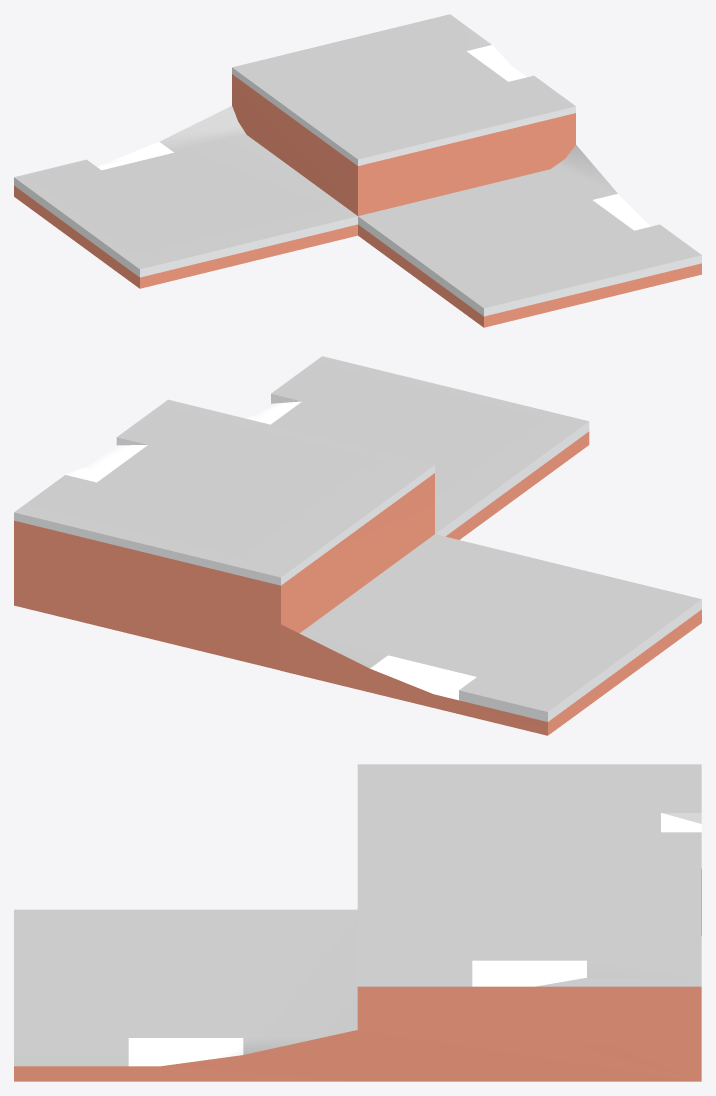
Rendered from platform_007.glb.
The picture shows the model from 3 angles, top to bottom: view 1: azimuth 30°, elevation 25°; view 2: azimuth 150°, elevation 25°; view 3: azimuth 270°, elevation 25°; orthographic projection. The views are drawn at different scales.
Visible parts, largest first — view 1: platform_007; view 2: platform_007; view 3: platform_007.
Boxes of the visible parts, bbox=[...] form: platform_007: bbox=[14, 14, 701, 327]; platform_007: bbox=[14, 356, 701, 735]; platform_007: bbox=[14, 764, 701, 1081].
Size of the model in its own units: 30 by 5 by 30.02.
Materials: 1 (1 with a texture image).
